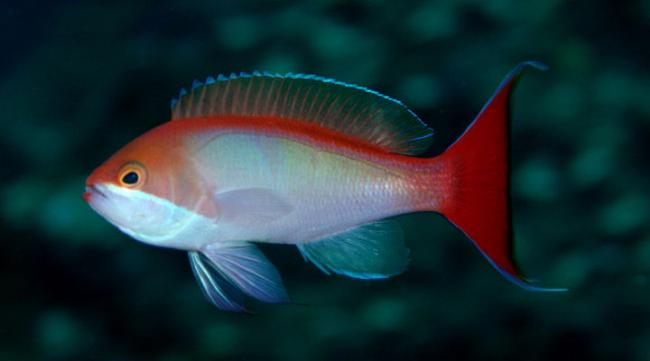fish: (82, 60, 572, 309)
